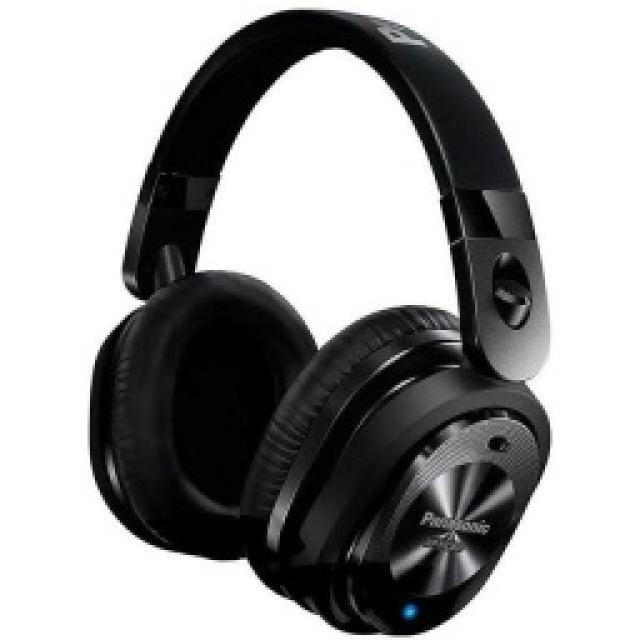headphones: (85, 5, 553, 635)
